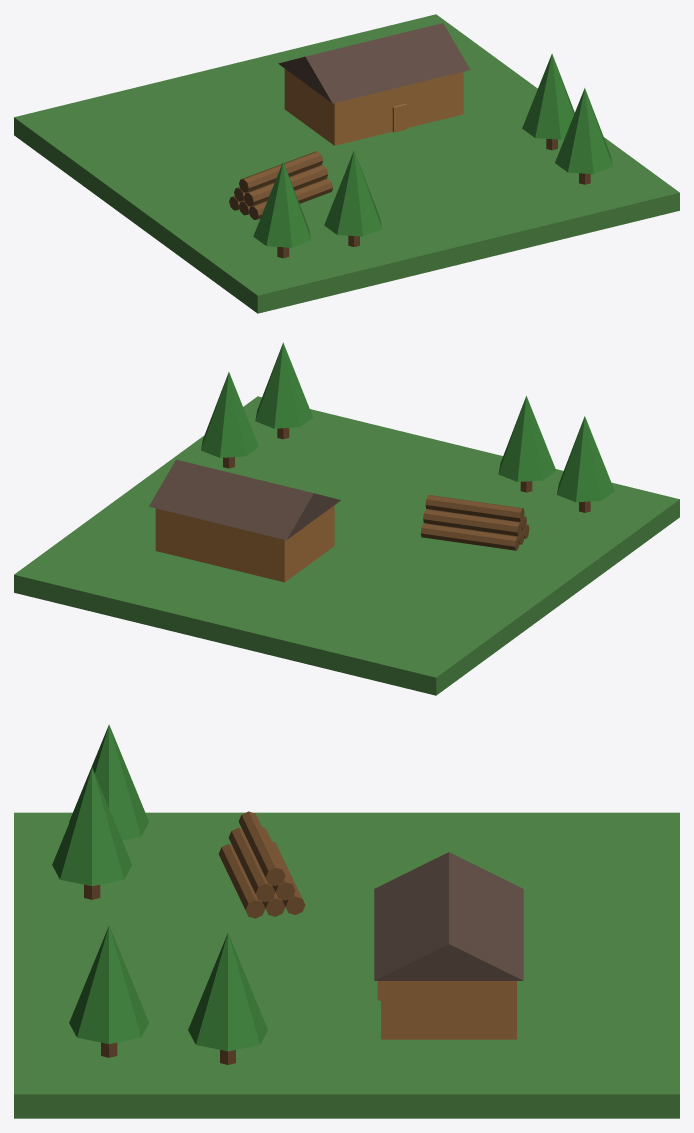
Rendered from forest_rent_1.glb.
3 renders of one model, top to bottom at view 1: azimuth 30°, elevation 25°; view 2: azimuth 150°, elevation 25°; view 3: azimuth 270°, elevation 25°, orthographic. The views are drawn at different scales.
Visible parts, largest first — view 1: forest_rent_1; view 2: forest_rent_1; view 3: forest_rent_1.
Part boxes in pixels (box(x1,y1,x2,y2)): forest_rent_1: box(14, 14, 679, 313); forest_rent_1: box(14, 342, 679, 695); forest_rent_1: box(14, 724, 679, 1118).
Size of the model in its own units: 1.96 by 0.498 by 1.96.
